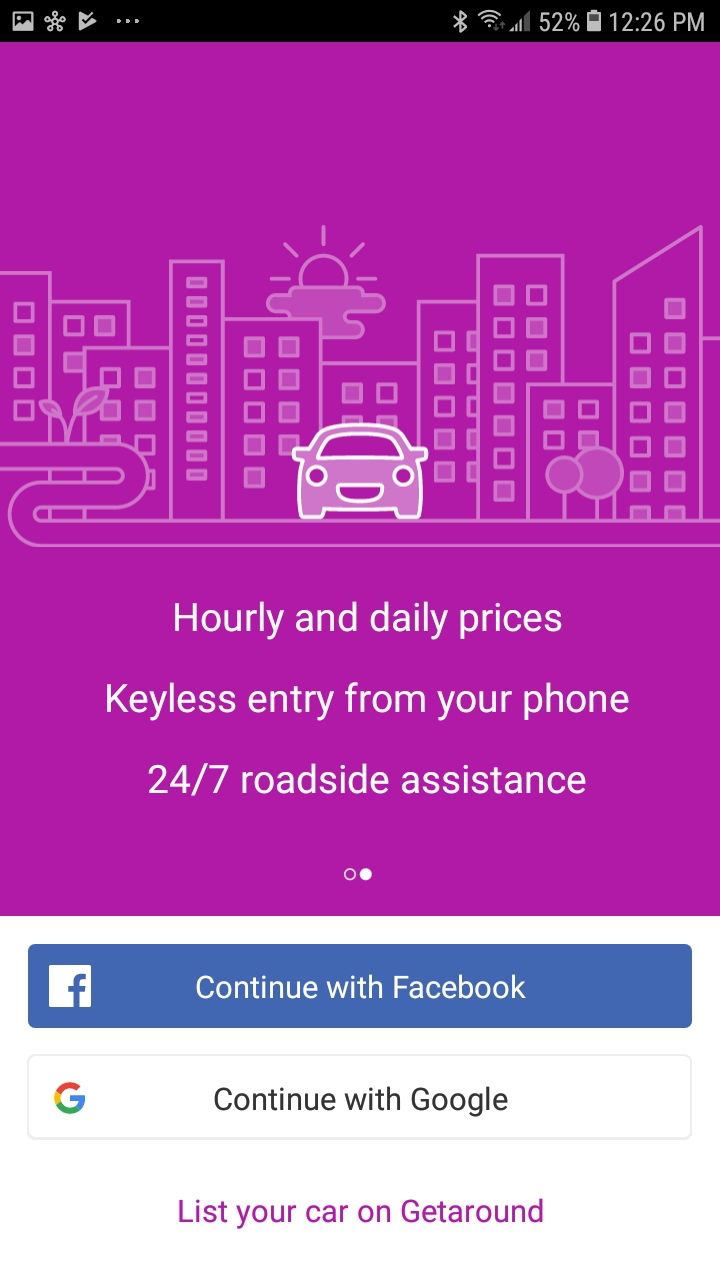Image: (1, 223, 720, 551)
PageIndicator: (344, 868, 373, 881)
Text: (108, 682, 630, 722), (175, 600, 562, 641), (148, 763, 586, 798), (179, 1197, 544, 1230)
TextButton: (27, 1054, 692, 1141), (28, 944, 693, 1029)
UpperTaskBar: (1, 1, 720, 43)
